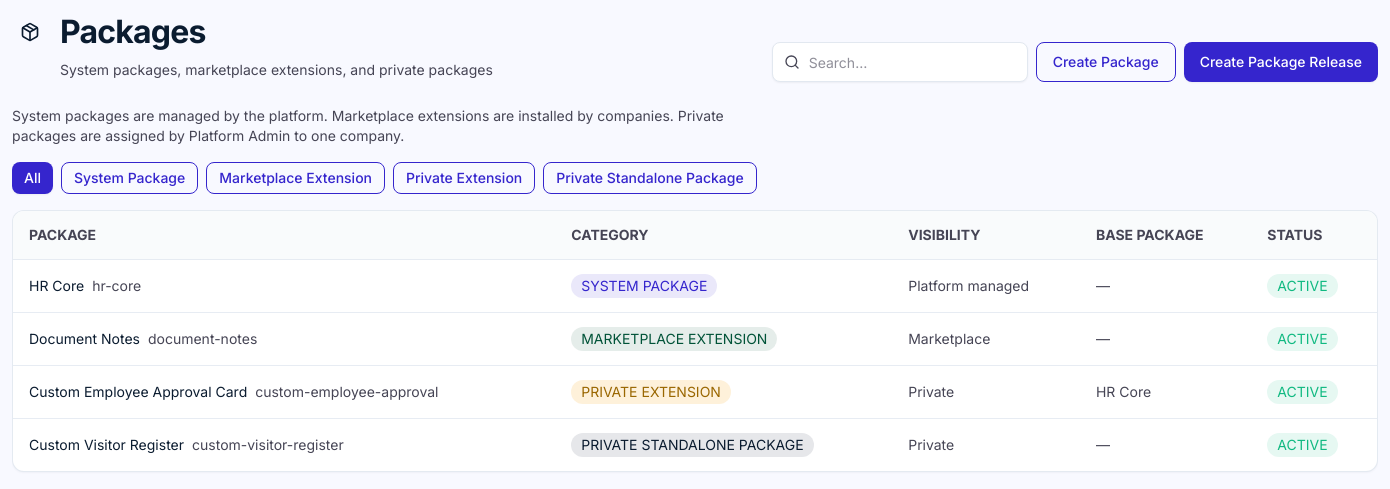
PackagesList category presentation › filters by category
Click the button "Marketplace Extension" at (296, 178), box [206,162,385,194]
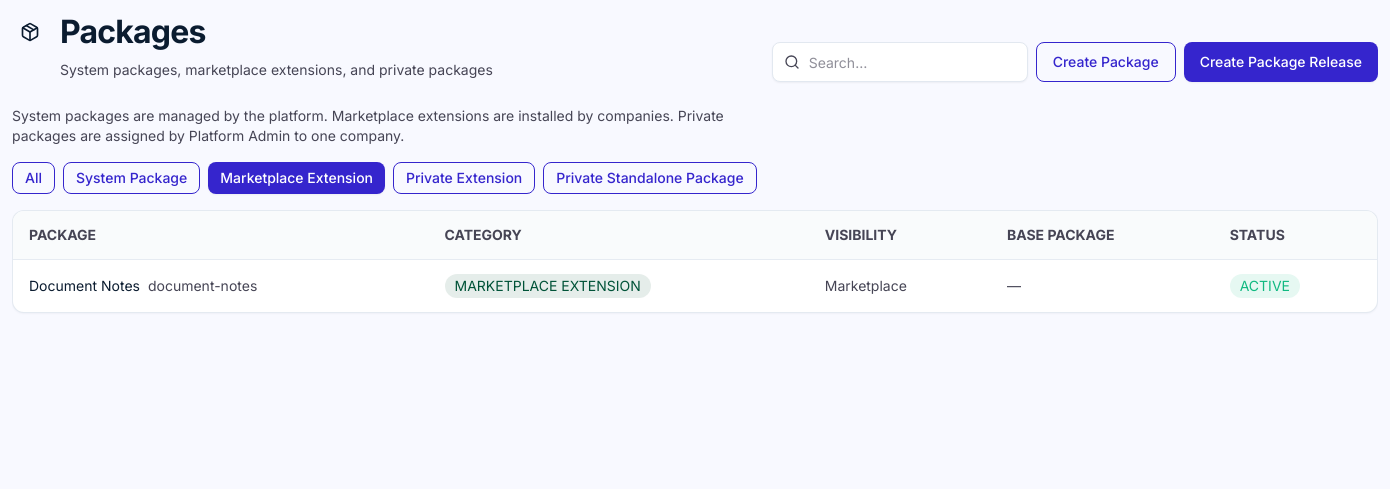
Expected: the text "Document Notes" is shown, [29,277,140,294]
Result: the text "HR Core" is gone
